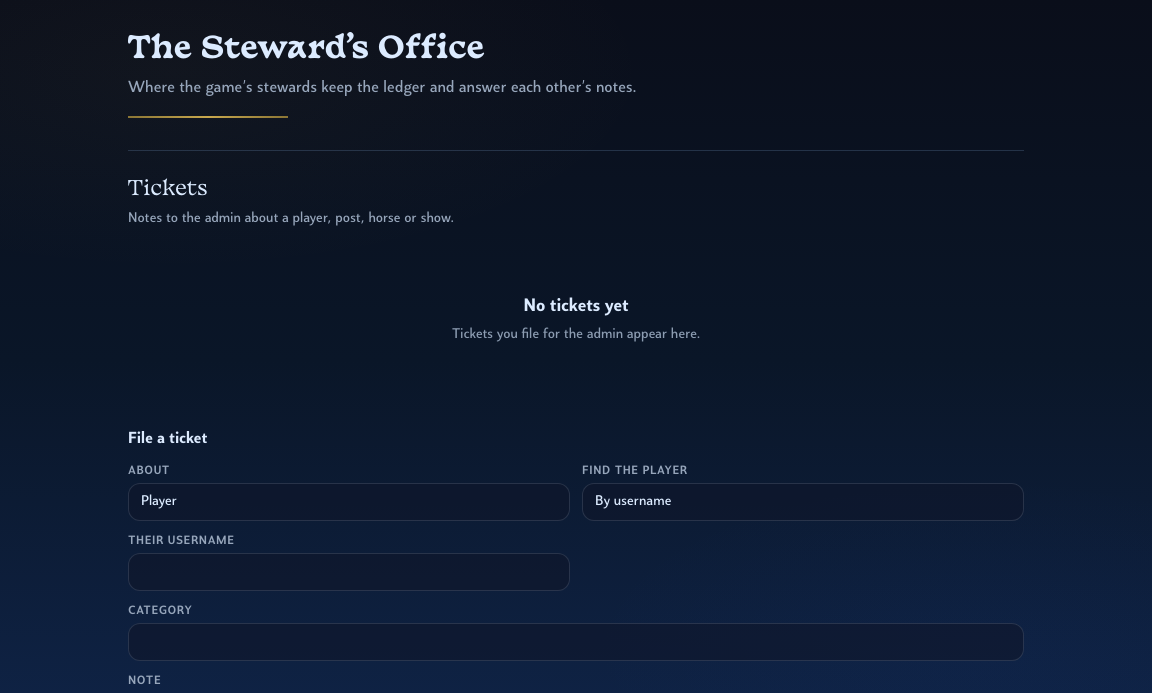
Test case: The Steward's Office › an action that gets a 404 re-asks /me, and a revoked steward gets not found
Type "Mara" into the field labelled "Their username" at [349, 572], box [128,553,570,591]
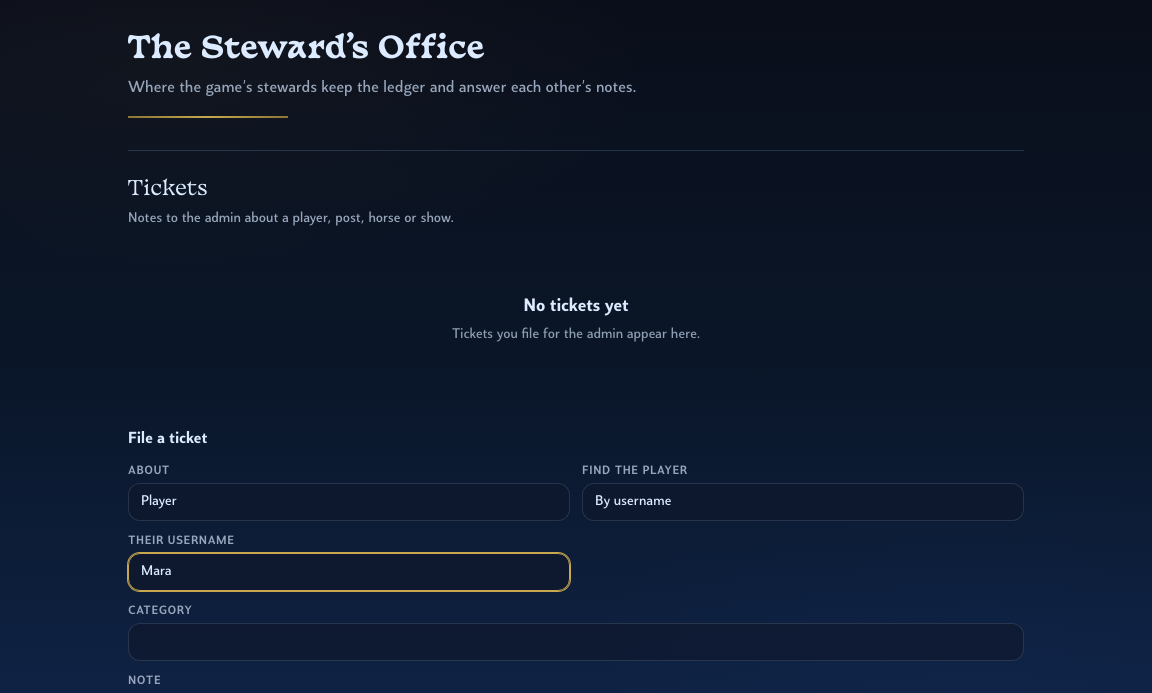
Type "Spam" into the field labelled "Category" at [576, 642], box [128,623,1024,661]
(page scrolled)
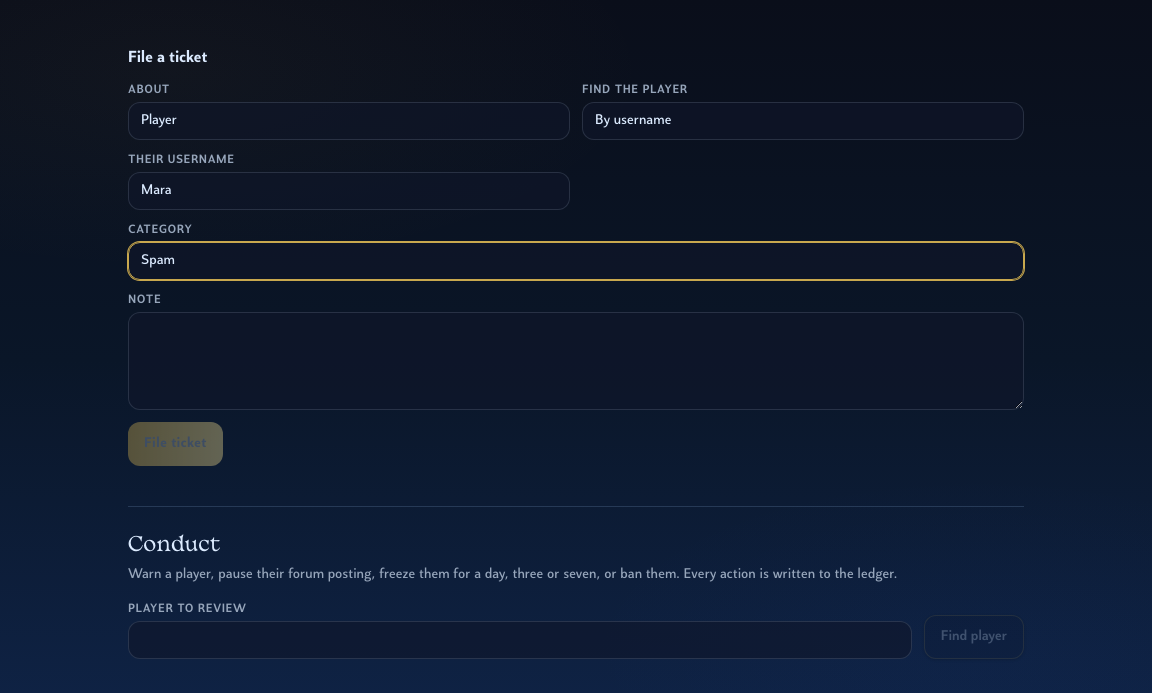
Type "Selling coins" into the text box labelled "Note" at [576, 361], box [128,312,1024,410]
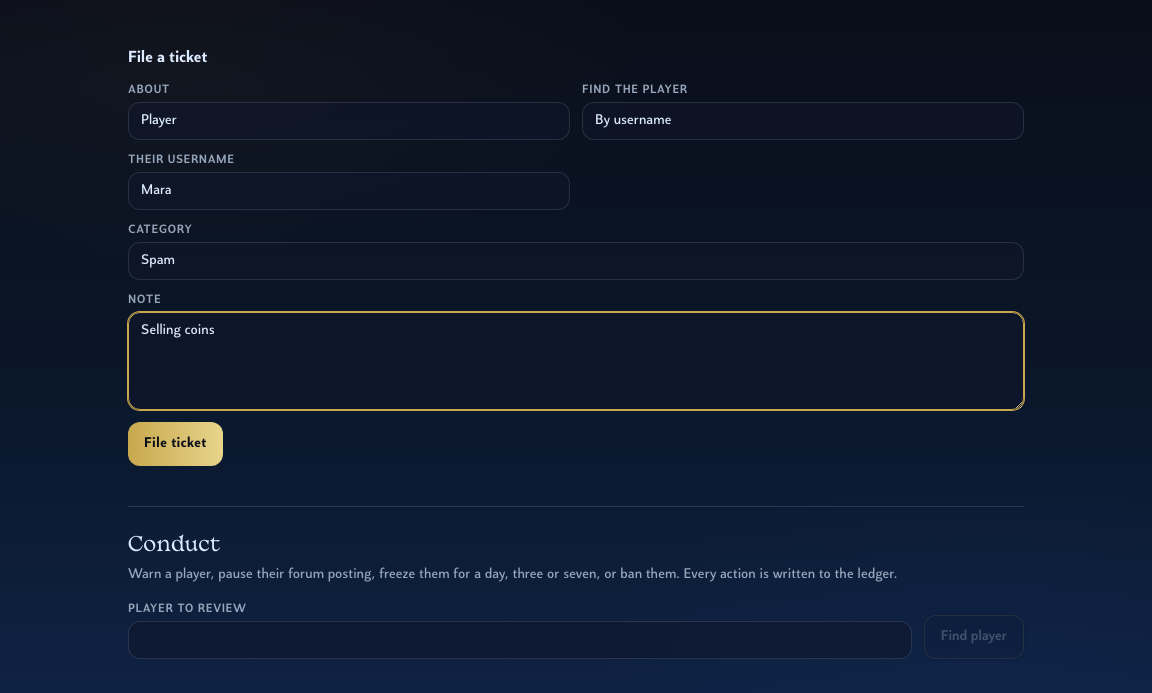
Click the button "File ticket" at [175, 444], box [128,422,223,466]
(page scrolled)
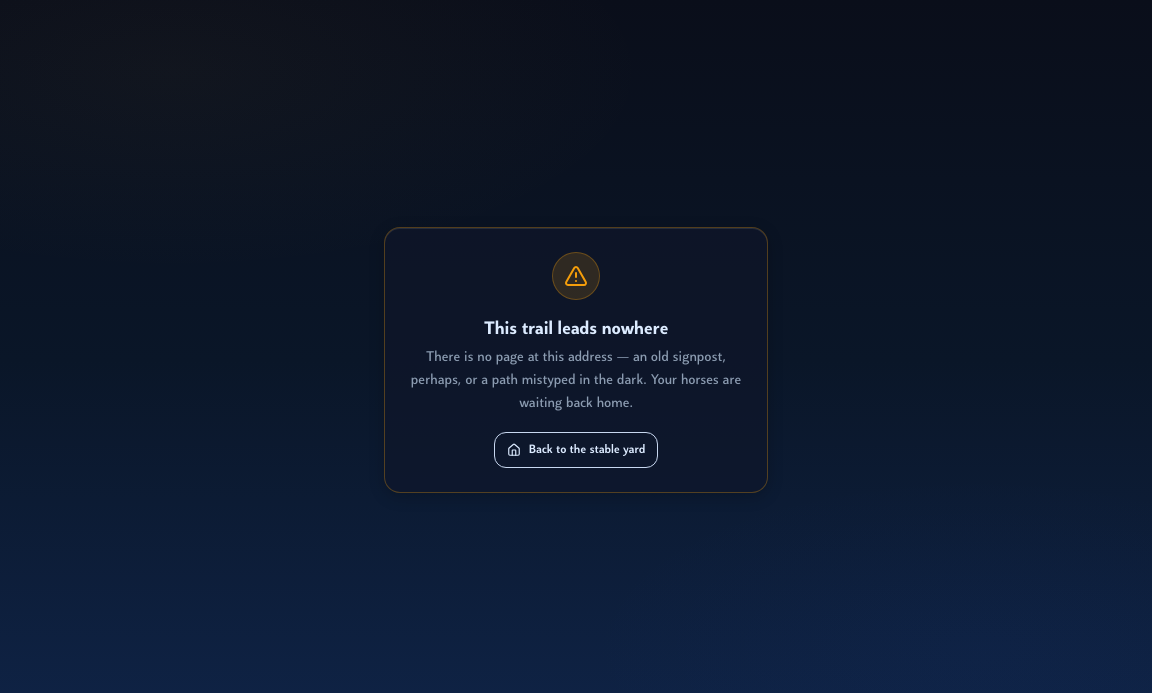
Now the element with test id "not-found-page" is shown, box [384,227,768,493]
